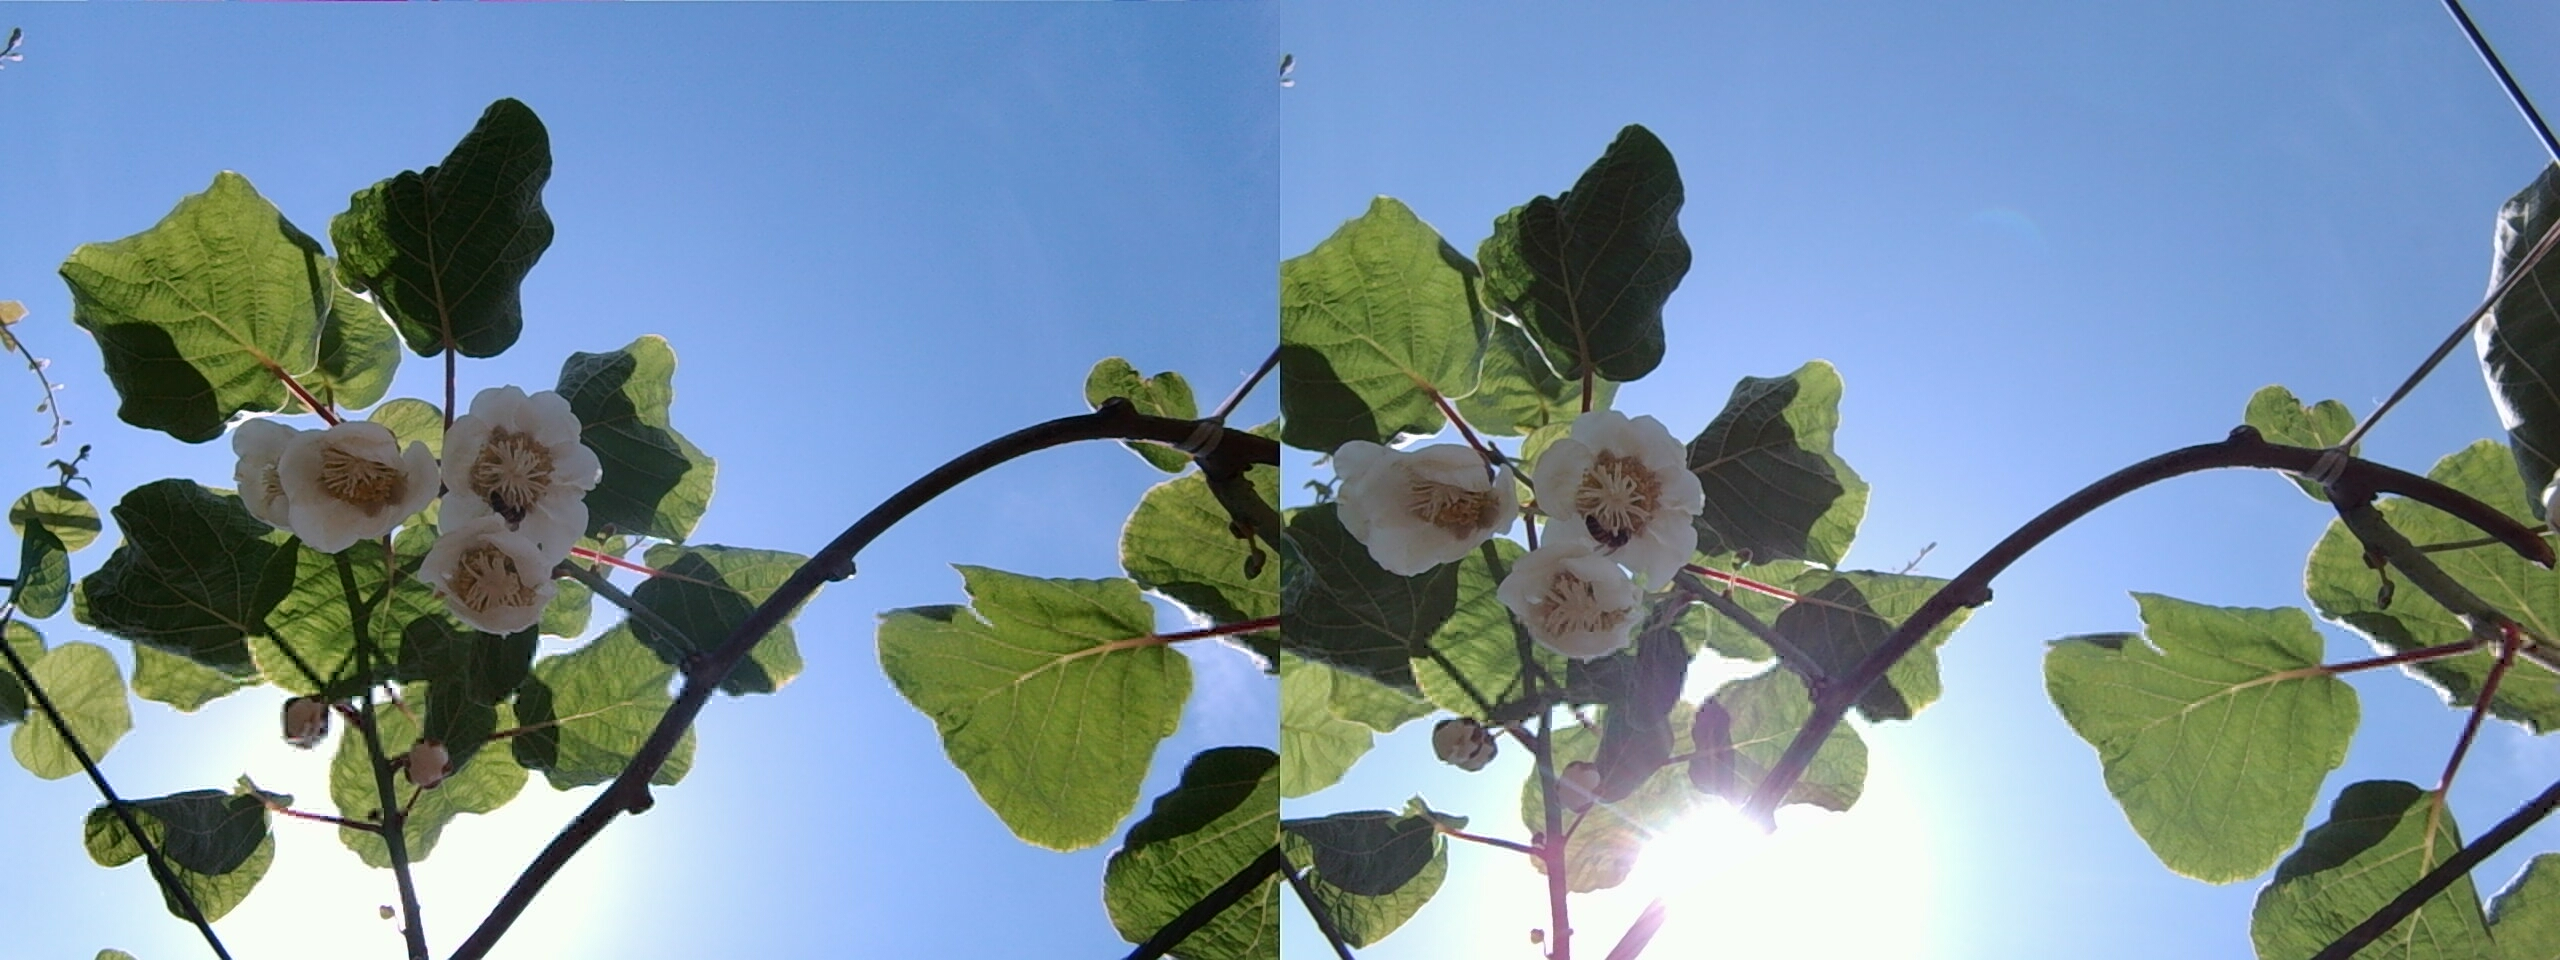flower: (424, 380, 601, 588), (1517, 402, 1706, 584), (237, 408, 438, 550), (1331, 434, 1513, 570), (1499, 544, 1647, 648), (424, 513, 555, 625)
